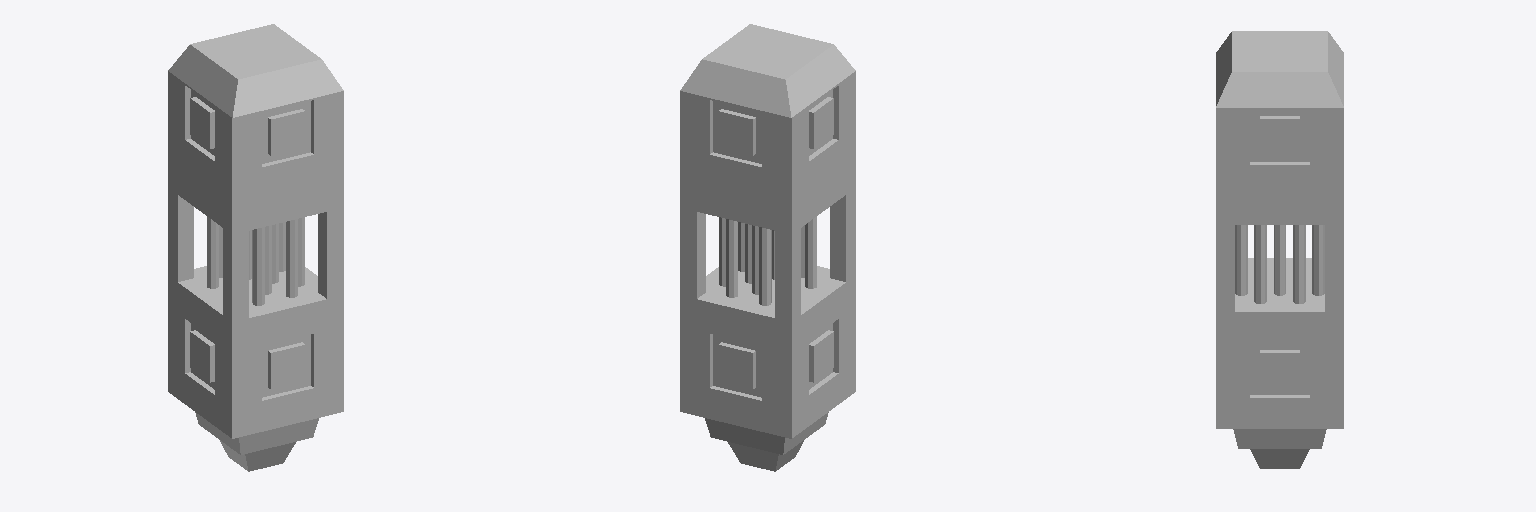
File: reactor_small_base.obj
The picture shows the model from 3 angles: view 1: azimuth 30°, elevation 25°; view 2: azimuth 150°, elevation 25°; view 3: azimuth 270°, elevation 25°; orthographic projection.
Parts seen in each view (by area): view 1: Cube_Cube.001; view 2: Cube_Cube.001; view 3: Cube_Cube.001.
Boxes of the visible parts, box(x1,y1,x2,y2) form: Cube_Cube.001: box(168, 24, 343, 471); Cube_Cube.001: box(680, 24, 855, 471); Cube_Cube.001: box(1216, 31, 1343, 468).
Bounding box in the file's own units: 1 × 3.5 × 1.